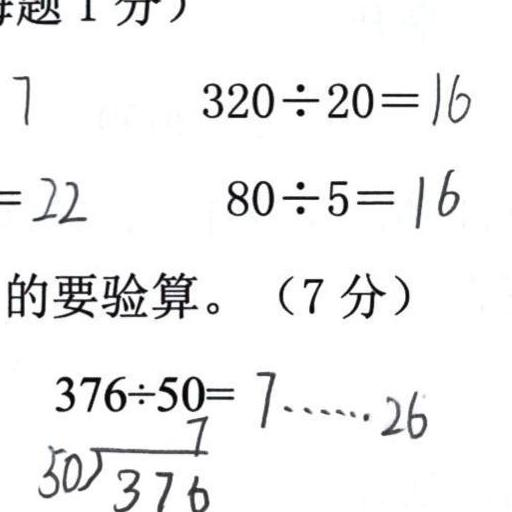ans: (249, 364, 428, 441), (406, 162, 460, 226), (27, 169, 86, 225), (425, 65, 471, 124), (6, 66, 34, 125)
